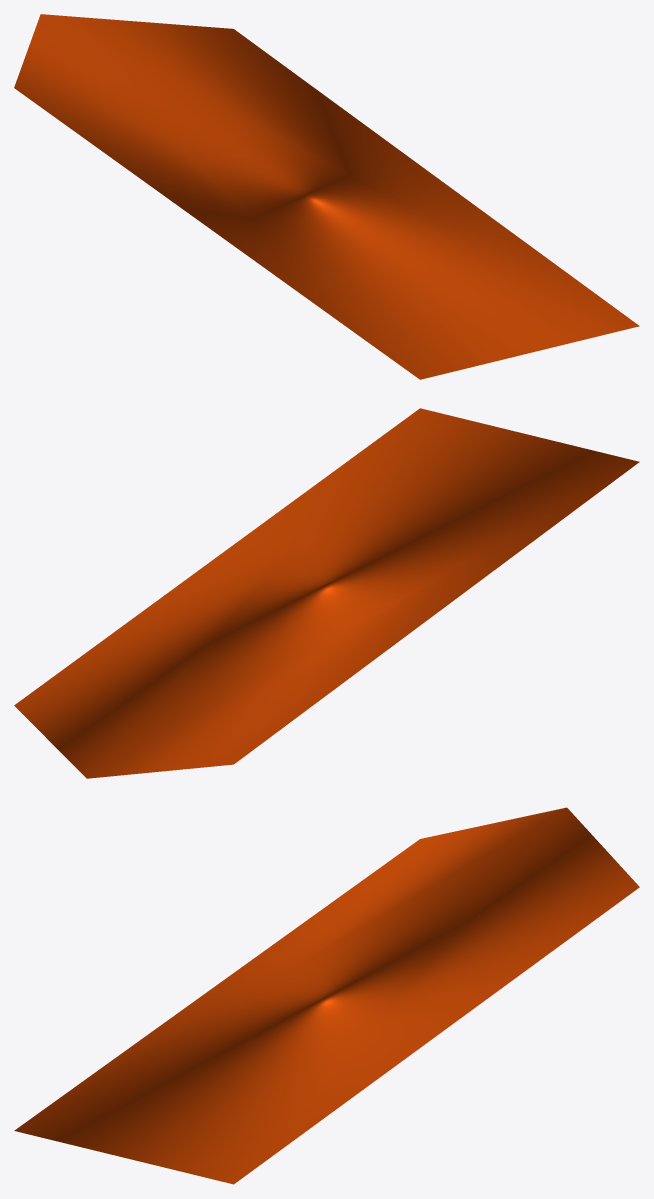
File: ground_marker_lod1.glb
3 views of the same model, one above another, from view 1: azimuth 30°, elevation 25°; view 2: azimuth 150°, elevation 25°; view 3: azimuth 330°, elevation 25° (orthographic).
Visible parts, largest first — view 1: ground_marker__prop_orange; view 2: ground_marker__prop_orange; view 3: ground_marker__prop_orange.
Part boxes in pixels (x1,y1,x2,y2): ground_marker__prop_orange: (14,14,639,379); ground_marker__prop_orange: (14,408,639,778); ground_marker__prop_orange: (14,807,639,1184).
Size of the model in its own units: 0.254 by 0.0096 by 0.9331.
